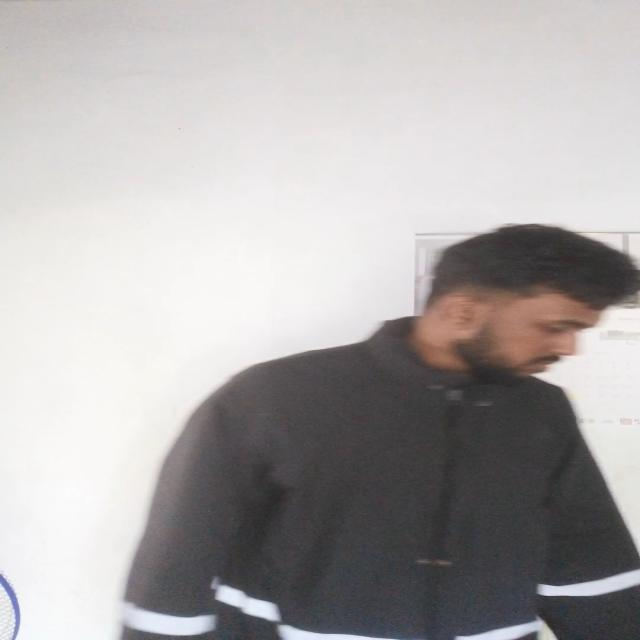Jacket_Wearer: (108, 306, 640, 640)
